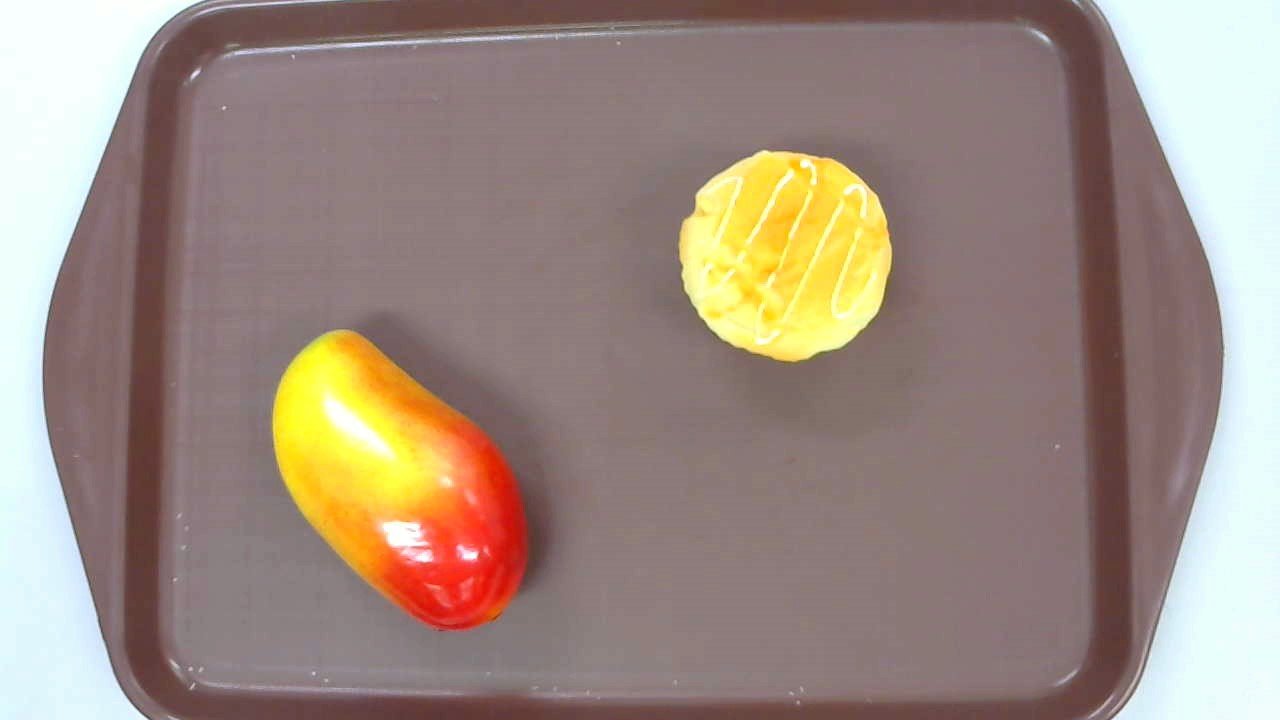cupcake: (678, 149, 893, 362)
red mango: (271, 330, 529, 634)
